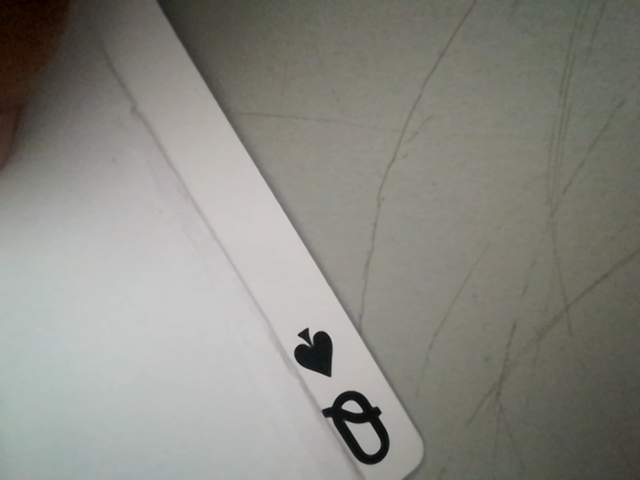ht q: (281, 317, 415, 479)
